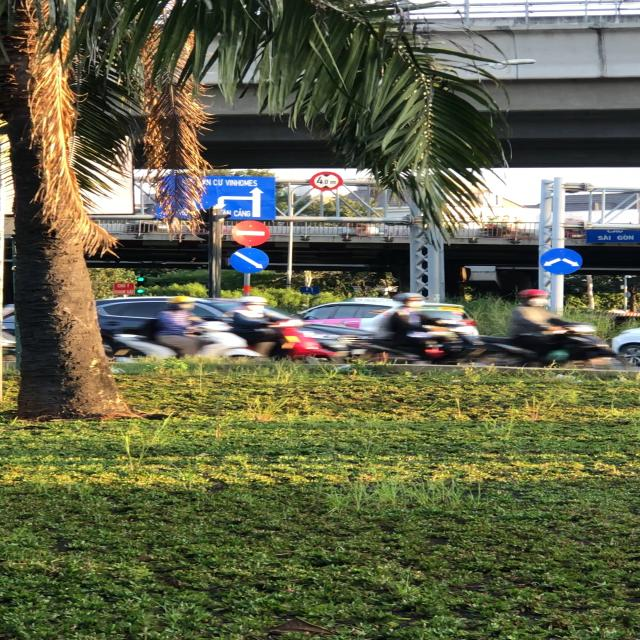Bien bao cam di nguoc chieu: (230, 216, 274, 248)
Bien bao han che chieu cao: (308, 170, 346, 191)
Bien bao huong phai di vong chuong ngai vat: (225, 247, 278, 276), (538, 246, 585, 276)
